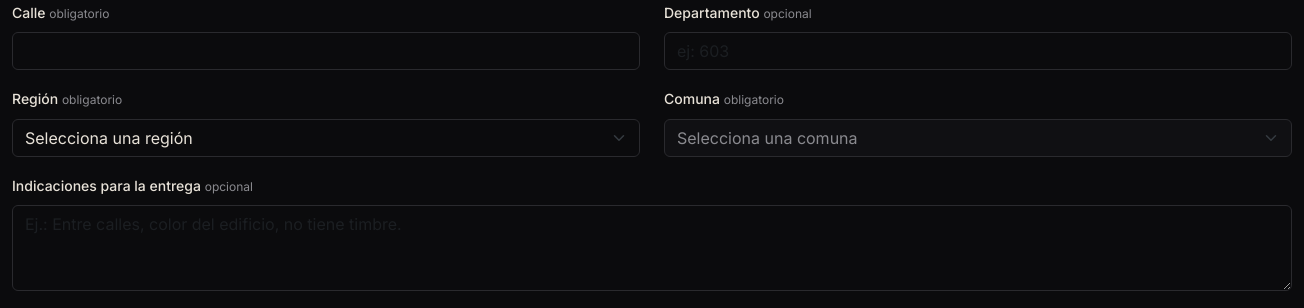
Test: DireccionFields › al elegir una región se habilitan solo las comunas de esa región
Step 1. Select "Región Metropolitana de Santiago" in the dropdown labelled "Región obligatorio" → [326, 138], box [12,119,640,157]
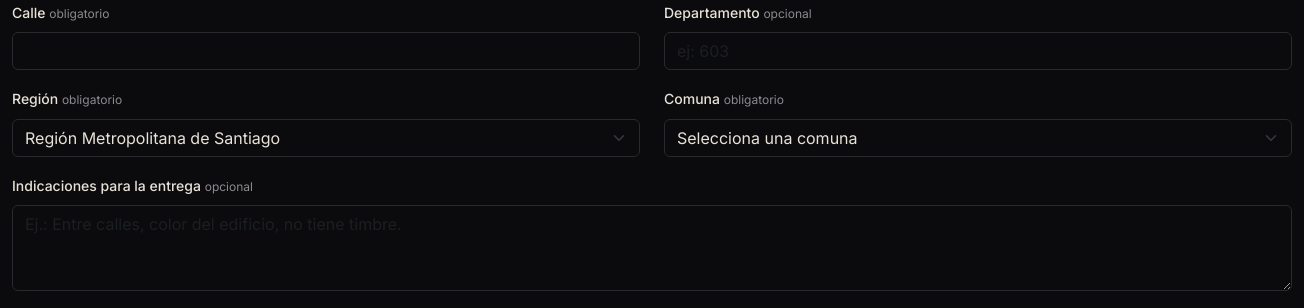
Expected: the dropdown labelled "Comuna obligatorio" is enabled, [664,119,1292,157]
